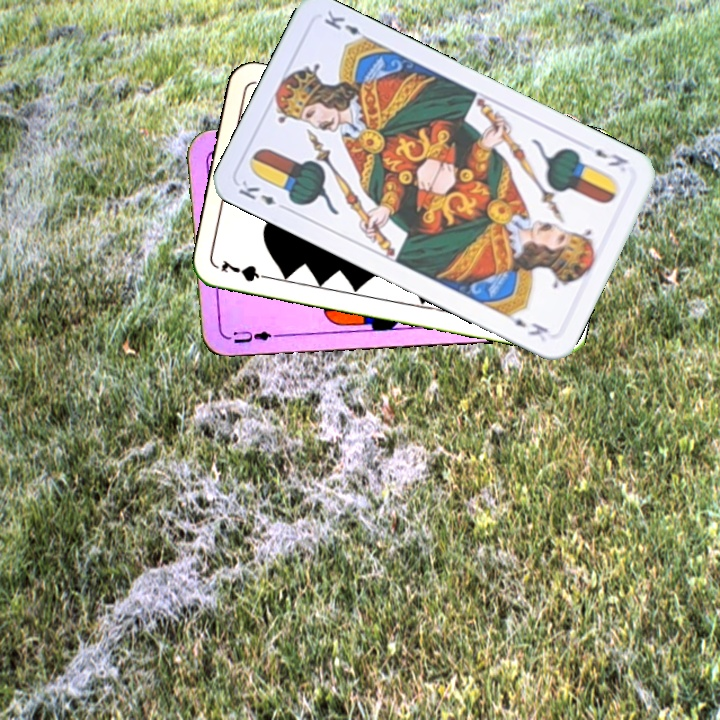EK: (234, 176, 291, 214), (591, 144, 631, 170)
EU: (229, 327, 274, 347)
G7: (217, 256, 275, 285)
